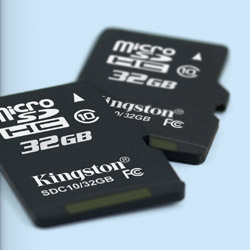Kingston: (23, 151, 160, 191)
